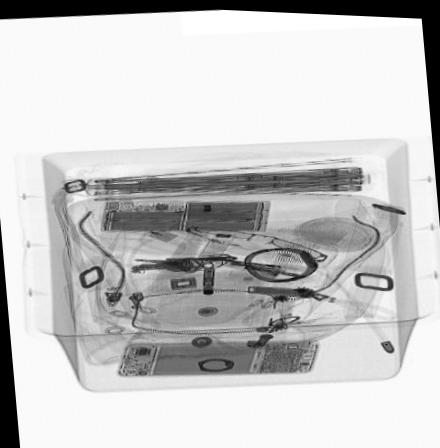Powerbank: (98, 196, 269, 232)
